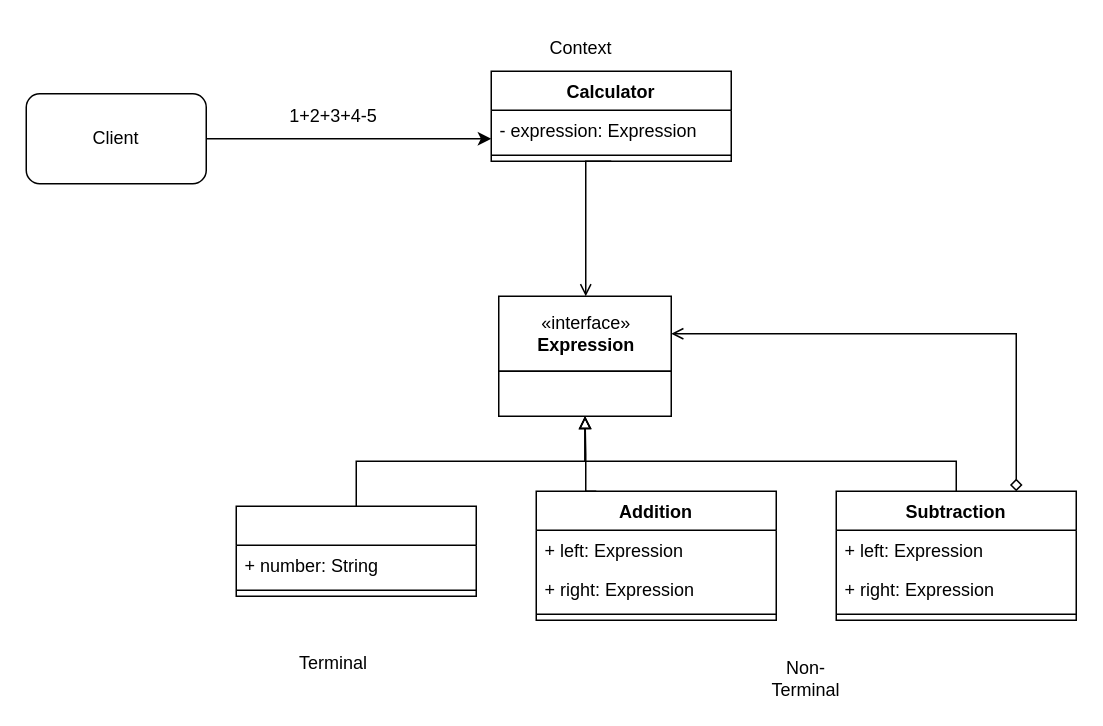
The diagram is 1103 pixels wide and 726 high, and some of its shapes have lost their labels. The box of each missing label's shape, as (x1, y1, x2, y2) in pixels:
interpret(Calculator): (497, 370, 671, 416)
WholeNumber: (235, 505, 476, 596)
